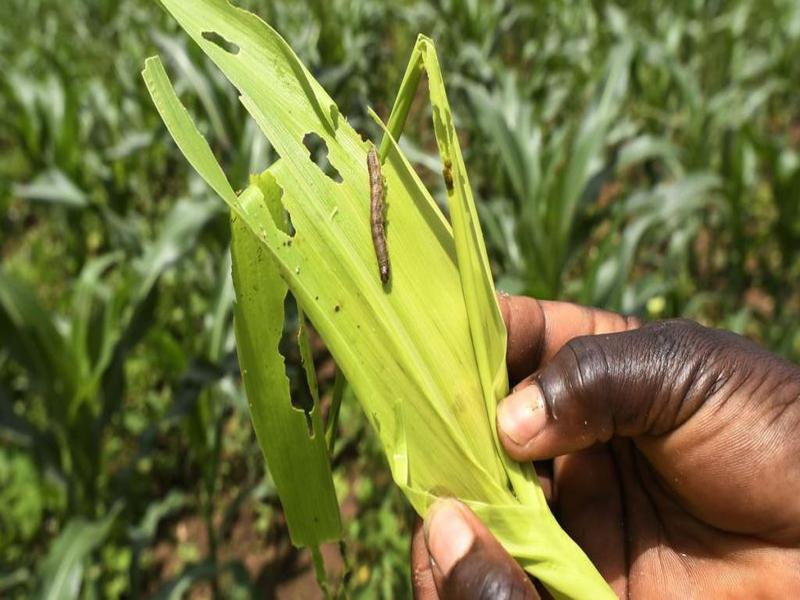Rice_case_worm: (267, 121, 428, 304)
